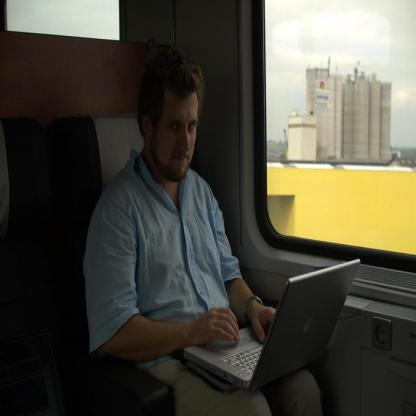board: (182, 256, 361, 390)
